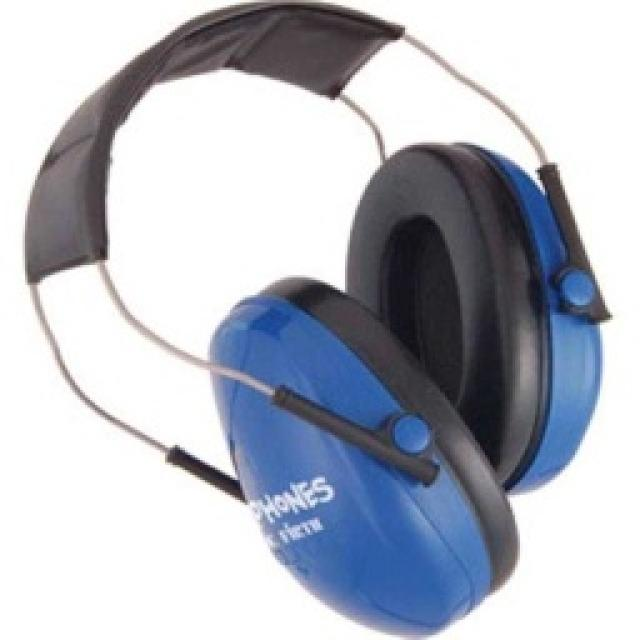headphones: (20, 0, 610, 638)
